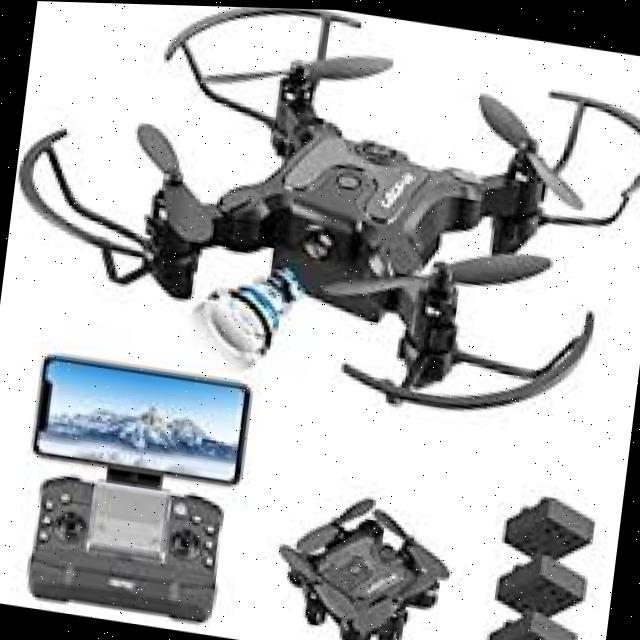drone: (0, 0, 640, 450)
